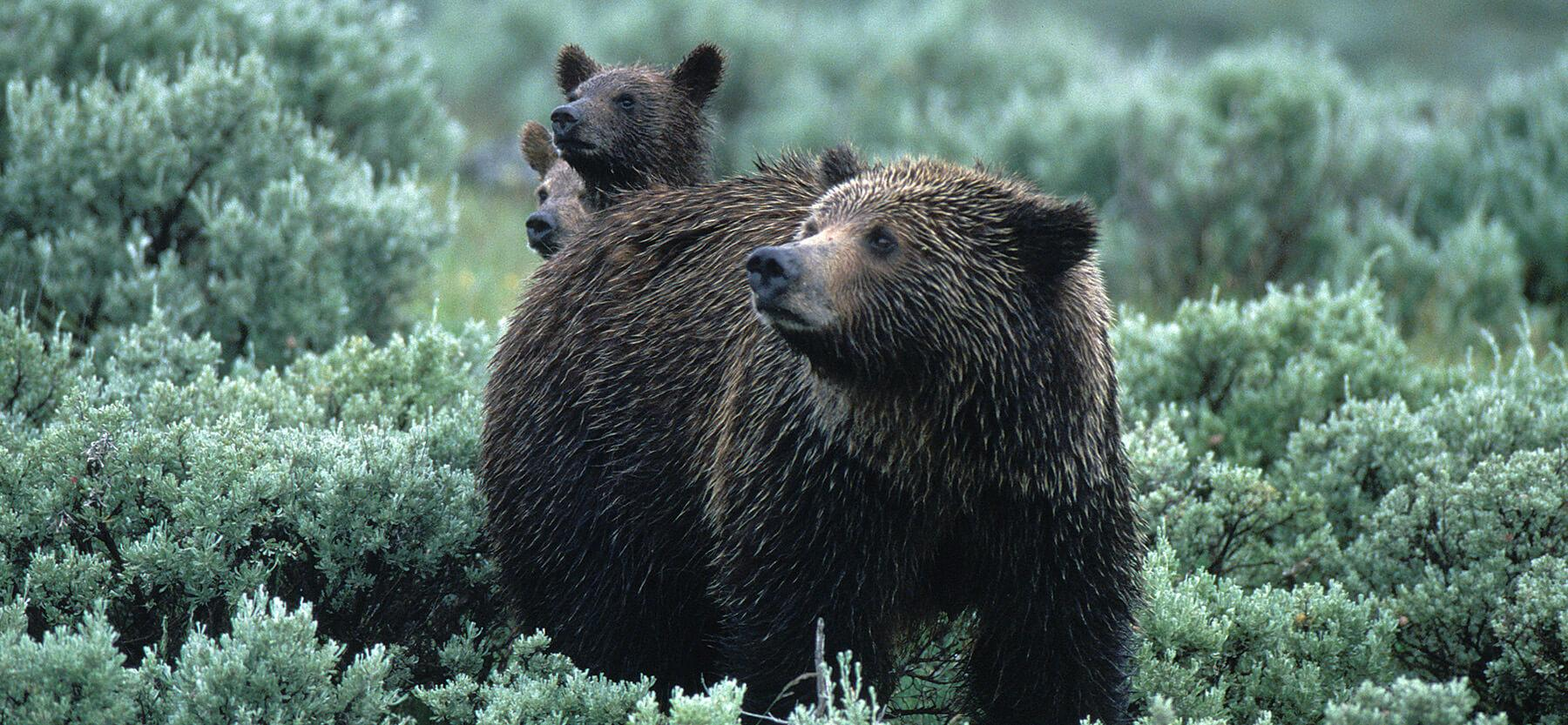ball: (482, 151, 1141, 722)
